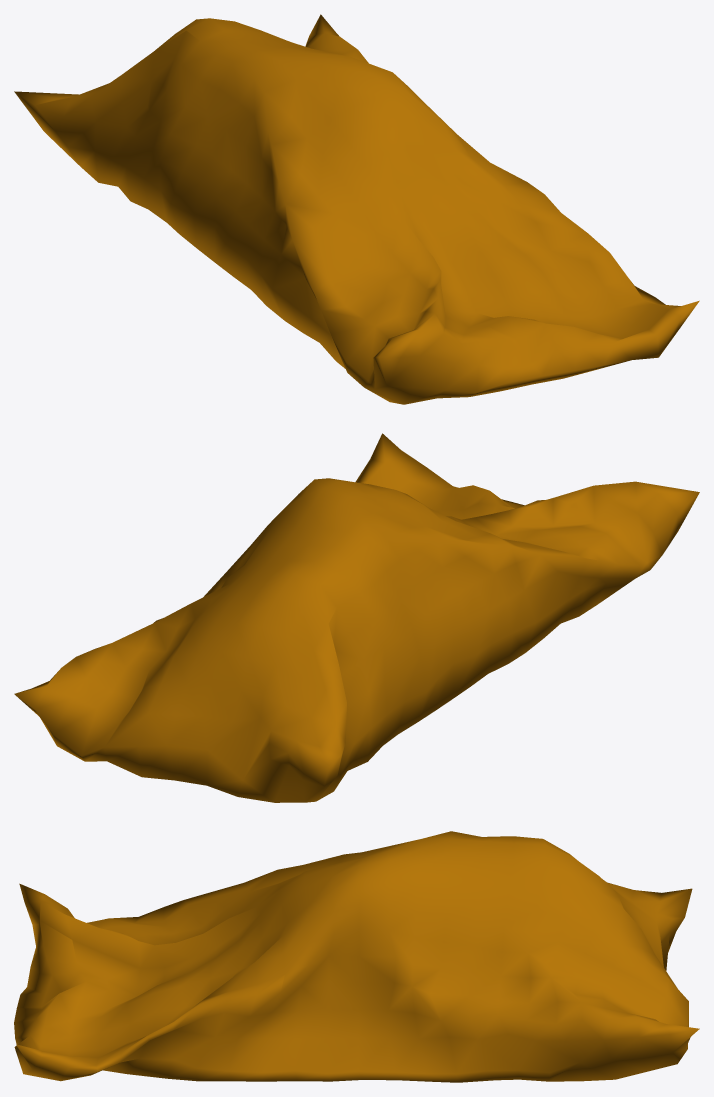
The model's file is SM_POS_Man_Bodybag_2.FBX.
The picture shows the model from 3 angles, top to bottom: view 1: azimuth 30°, elevation 25°; view 2: azimuth 150°, elevation 25°; view 3: azimuth 270°, elevation 25°; orthographic projection. The views are drawn at different scales.
Visible parts, largest first — view 1: POS_Man_Bodybag_2; view 2: POS_Man_Bodybag_2; view 3: POS_Man_Bodybag_2.
Boxes of the visible parts, x1=… form: POS_Man_Bodybag_2: x1=14, y1=14, x2=699, y2=404; POS_Man_Bodybag_2: x1=14, y1=433, x2=699, y2=802; POS_Man_Bodybag_2: x1=14, y1=831, x2=699, y2=1082.
Size of the model in its own units: 114 by 231 by 63.04.
